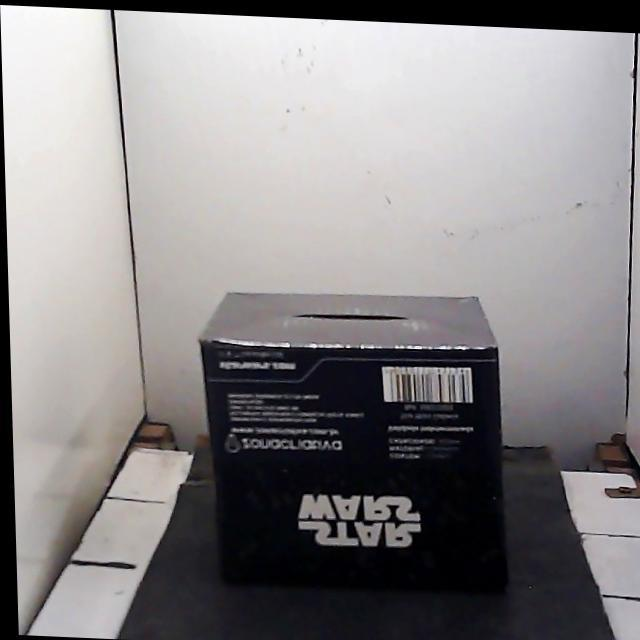papel: (200, 293, 507, 589)
